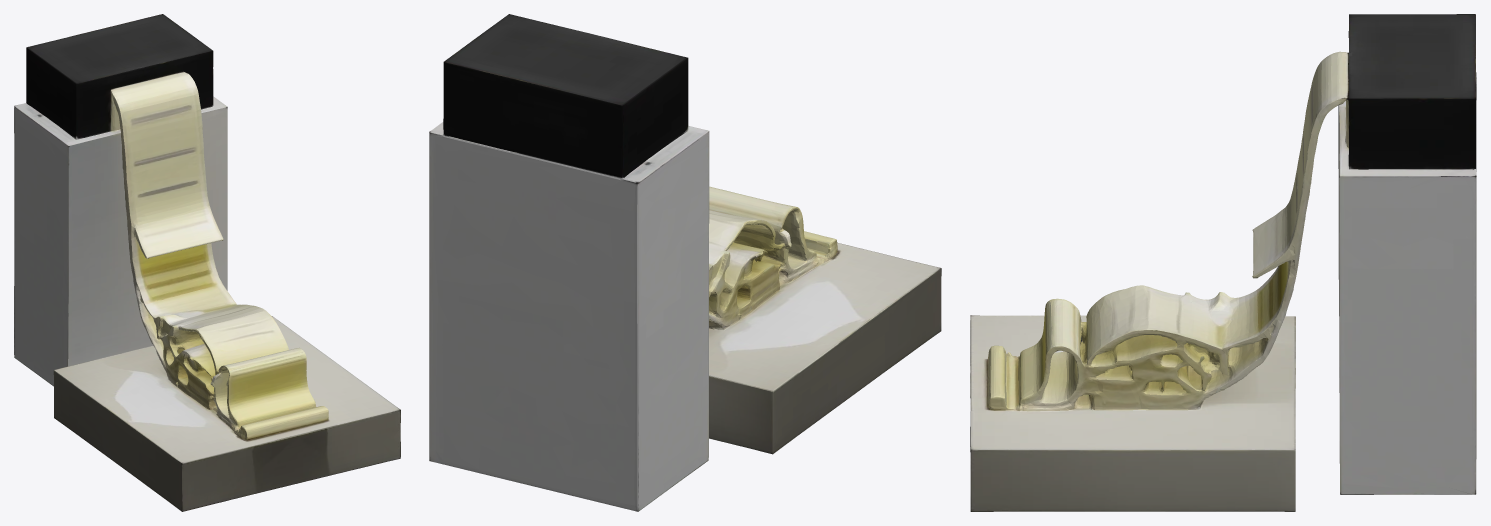
File: printer.glb
3 views of the same model, side by side, from view 1: azimuth 30°, elevation 25°; view 2: azimuth 150°, elevation 25°; view 3: azimuth 270°, elevation 25° (orthographic). The views are drawn at different scales.
Parts seen in each view (by area): view 1: geometry_0; view 2: geometry_0; view 3: geometry_0.
Boxes of the visible parts, x1,y1,x2,y2 form: geometry_0: (14,14,400,511); geometry_0: (429,14,941,511); geometry_0: (970,14,1476,511).
Size of the model in its own units: 0.6315 by 0.849 by 0.9991.
Materials: 1 (1 with a texture image).
